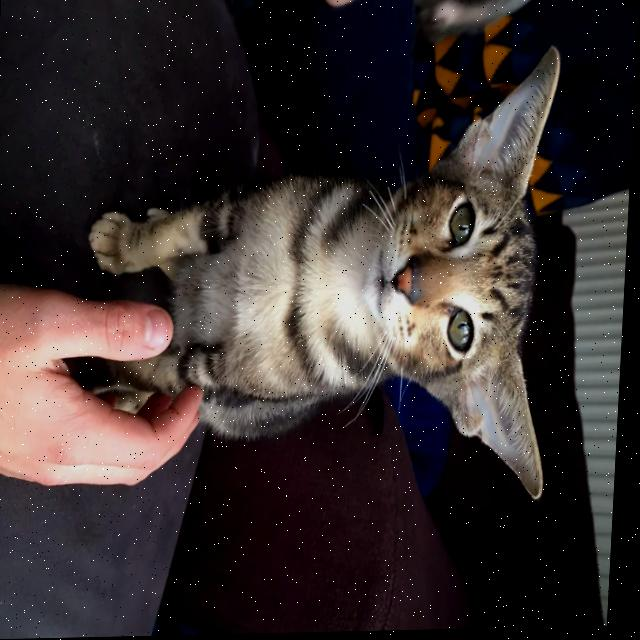Oriental: (73, 42, 571, 522)
